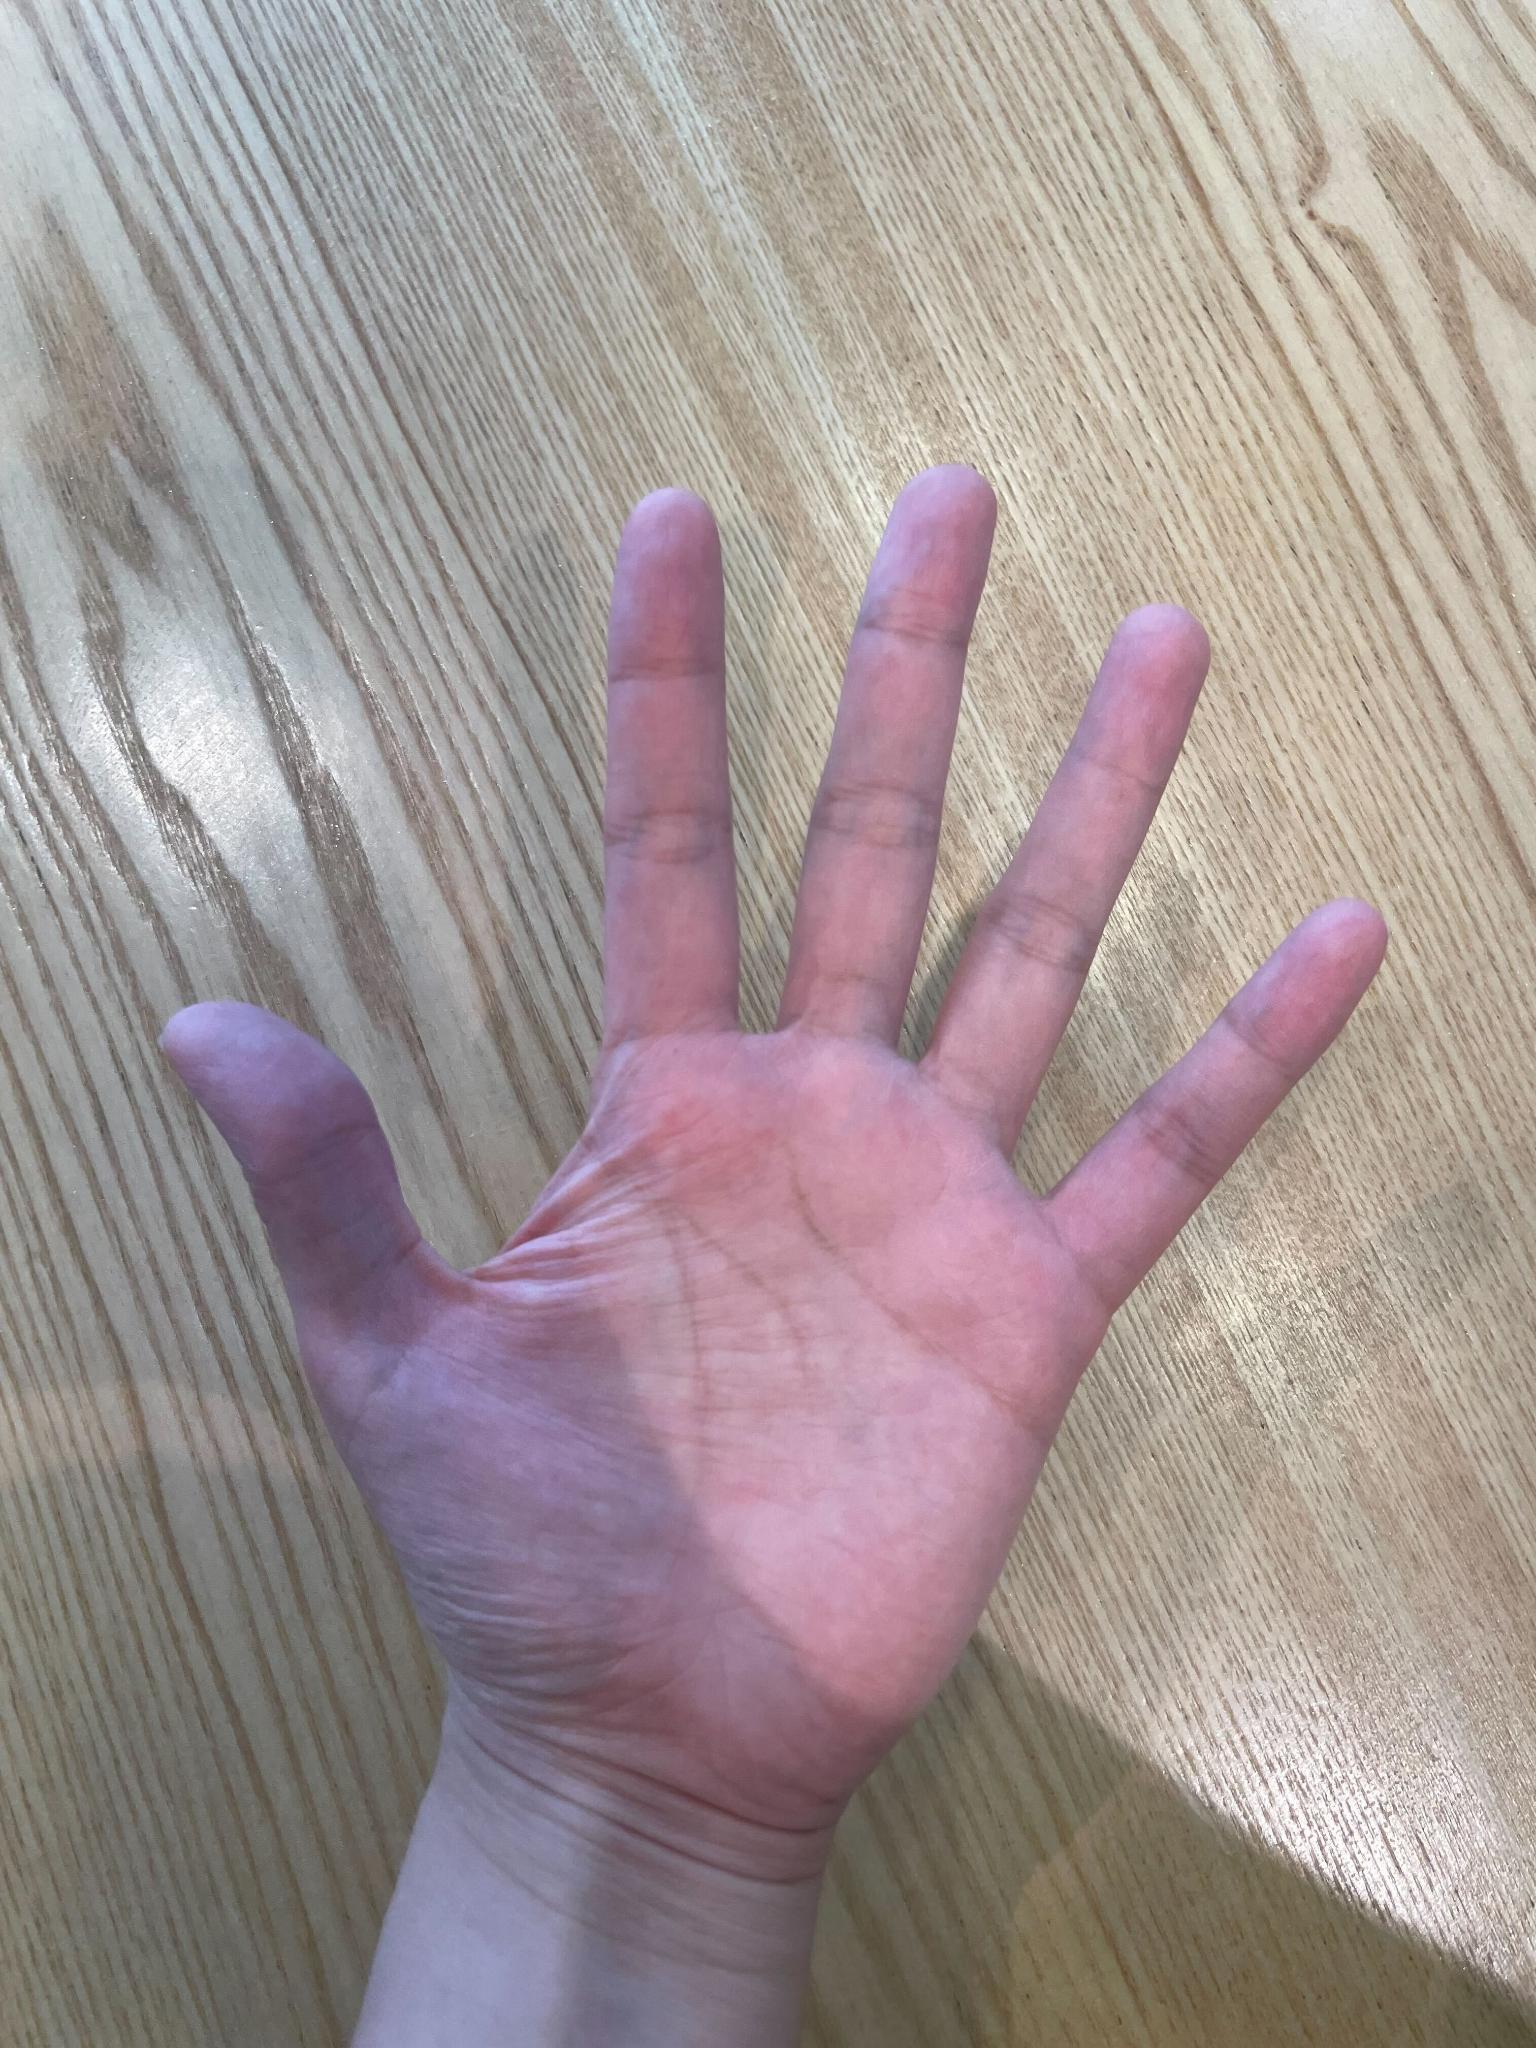open: (145, 450, 1413, 2040)
